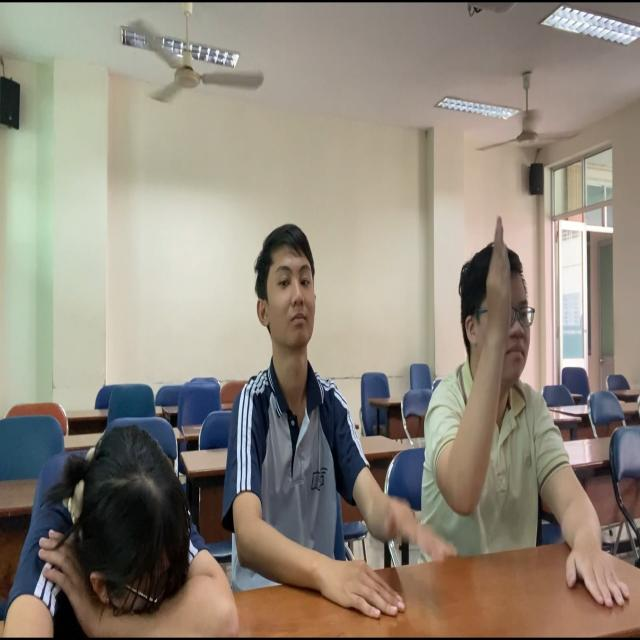raise_hand: (421, 185, 640, 636)
sleep: (1, 353, 269, 640)
